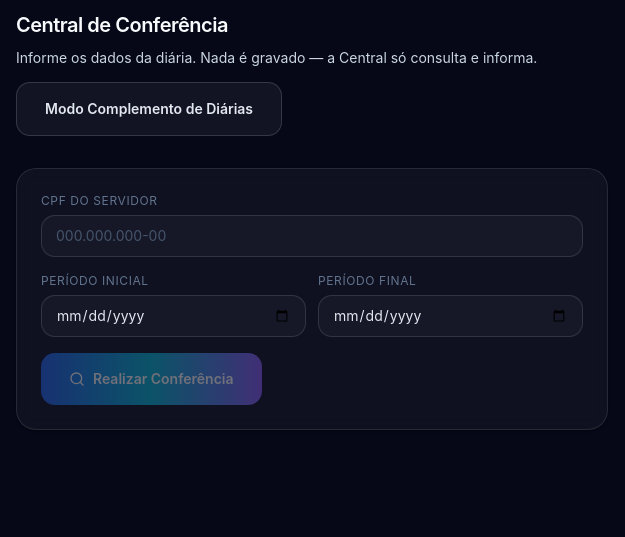
Test: Conferencia — portão da Etapa 2 › falha técnica (503) mostra alerta de erro, nunca um veredito
The width and height of the screenshot is (625, 537).
Type "12345678901" into the field labelled "CPF do servidor" at (312,236), box [41,215,583,257]
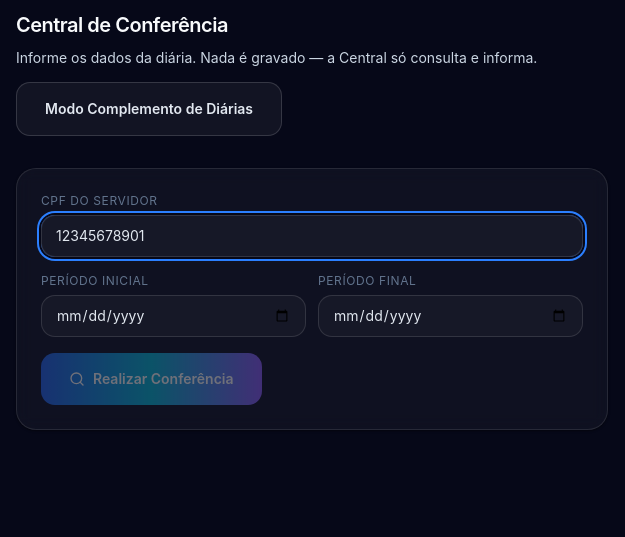
Type "2026-07-21" into the date field labelled "Período inicial" at (174,316), box [41,295,306,337]
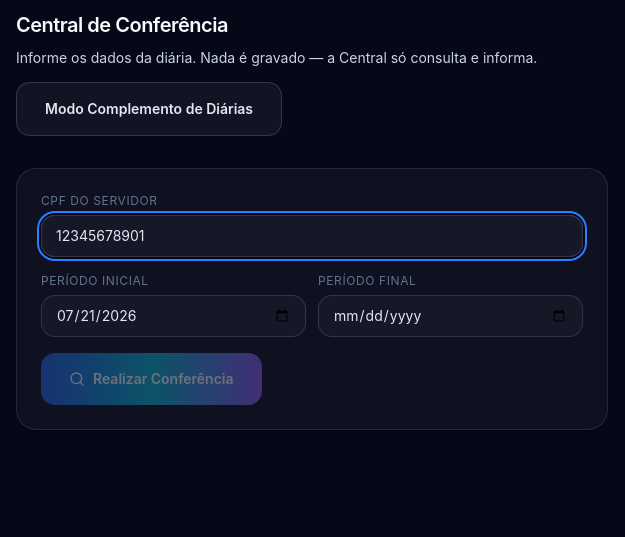
Type "2026-07-23" into the date field labelled "Período final" at (450,316), box [318,295,583,337]
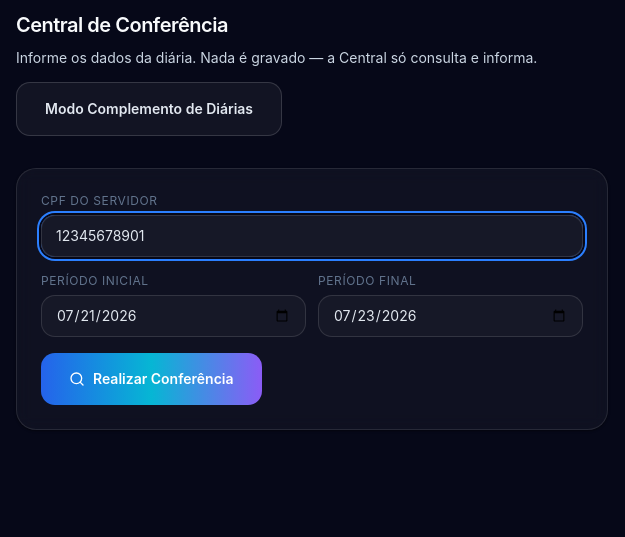
Click the button "Realizar Conferência" at (151,379), box [41,353,262,405]
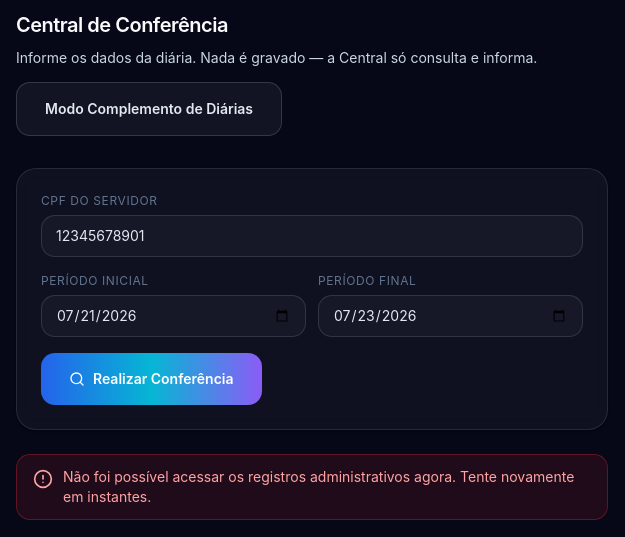
expect the text "Não foi possível acessar os registros administrativos" is shown: met, box [63,468,574,505]
